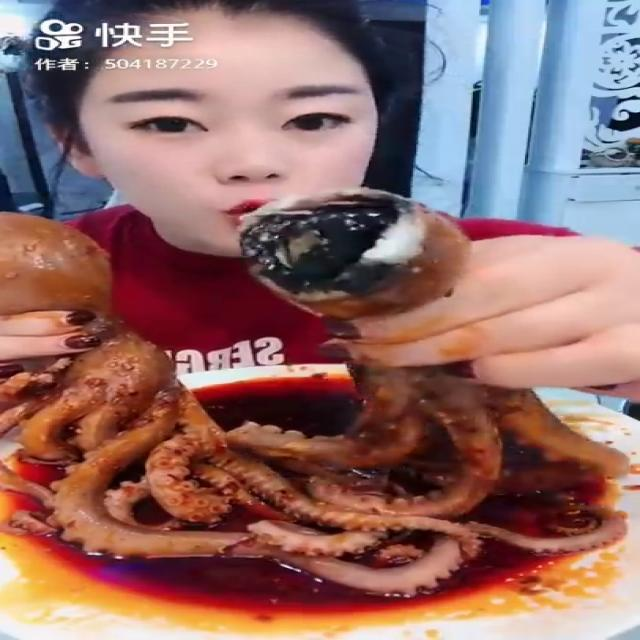octopus: (111, 188, 640, 596), (0, 209, 534, 594)
